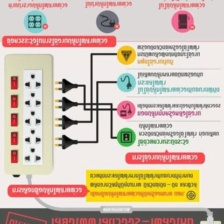three_eye_plug: (1, 52, 55, 177)
